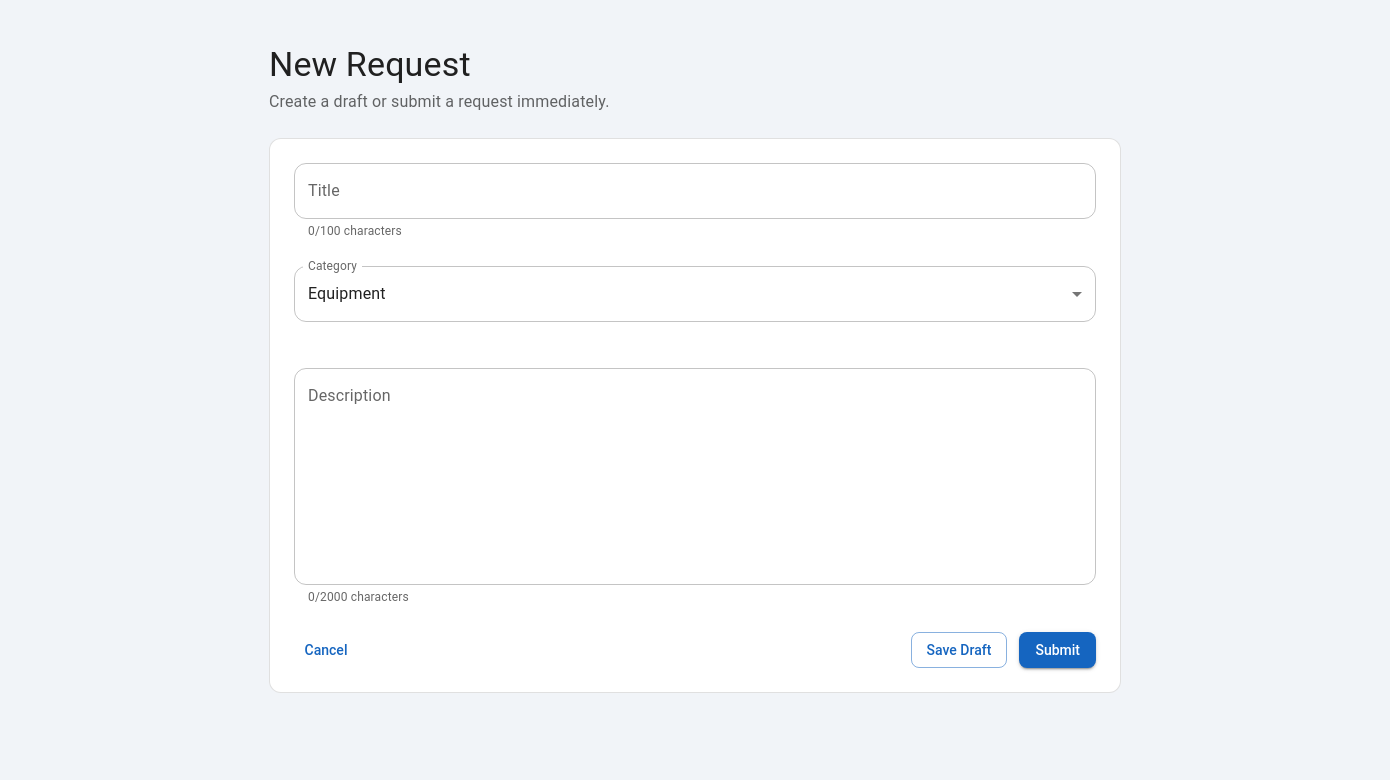
it: CreateRequestPage › submits request and redirects
Type "New laptop request" into the field labelled "Title" at (695, 191), box [294,163,1096,219]
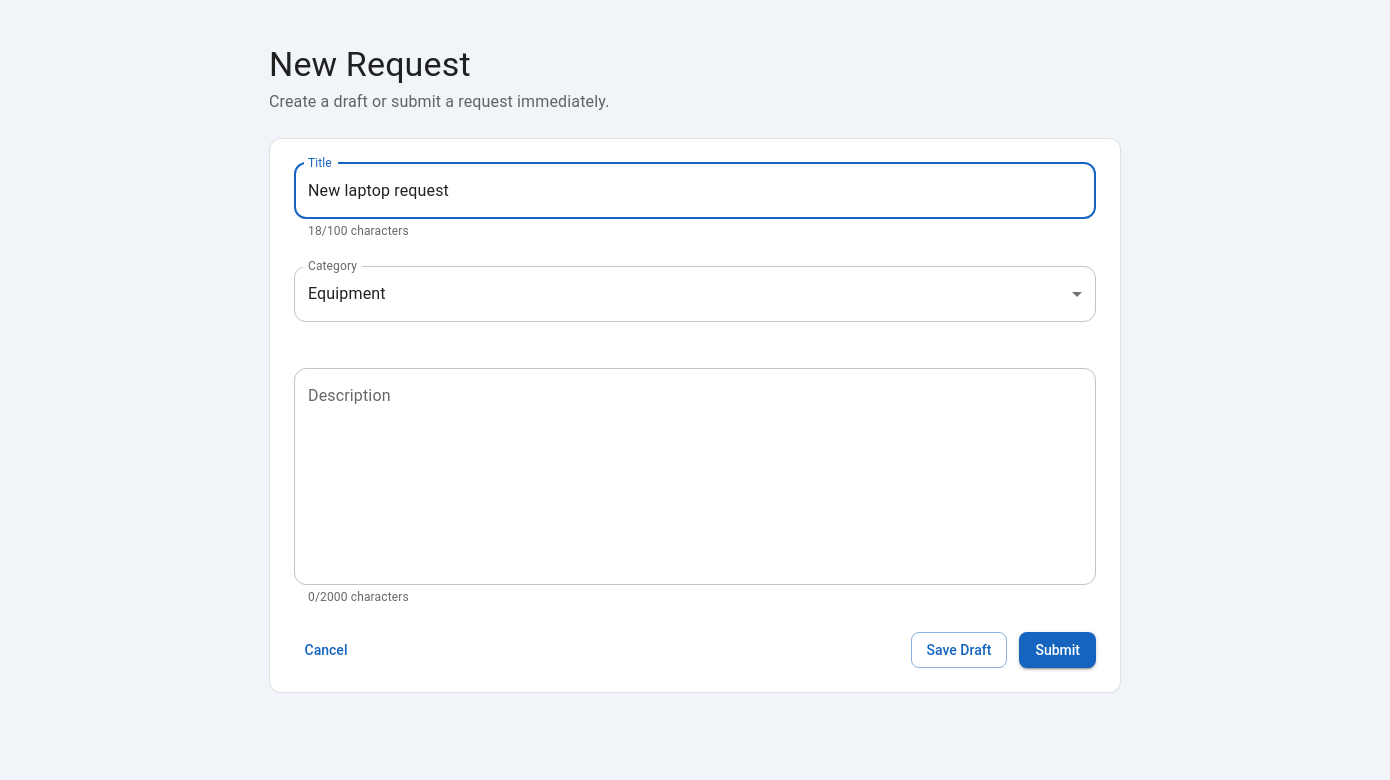
Type "Need a stronger laptop for local integration testing." into the text box labelled "Description" at (695, 476), box [308,384,1082,568]
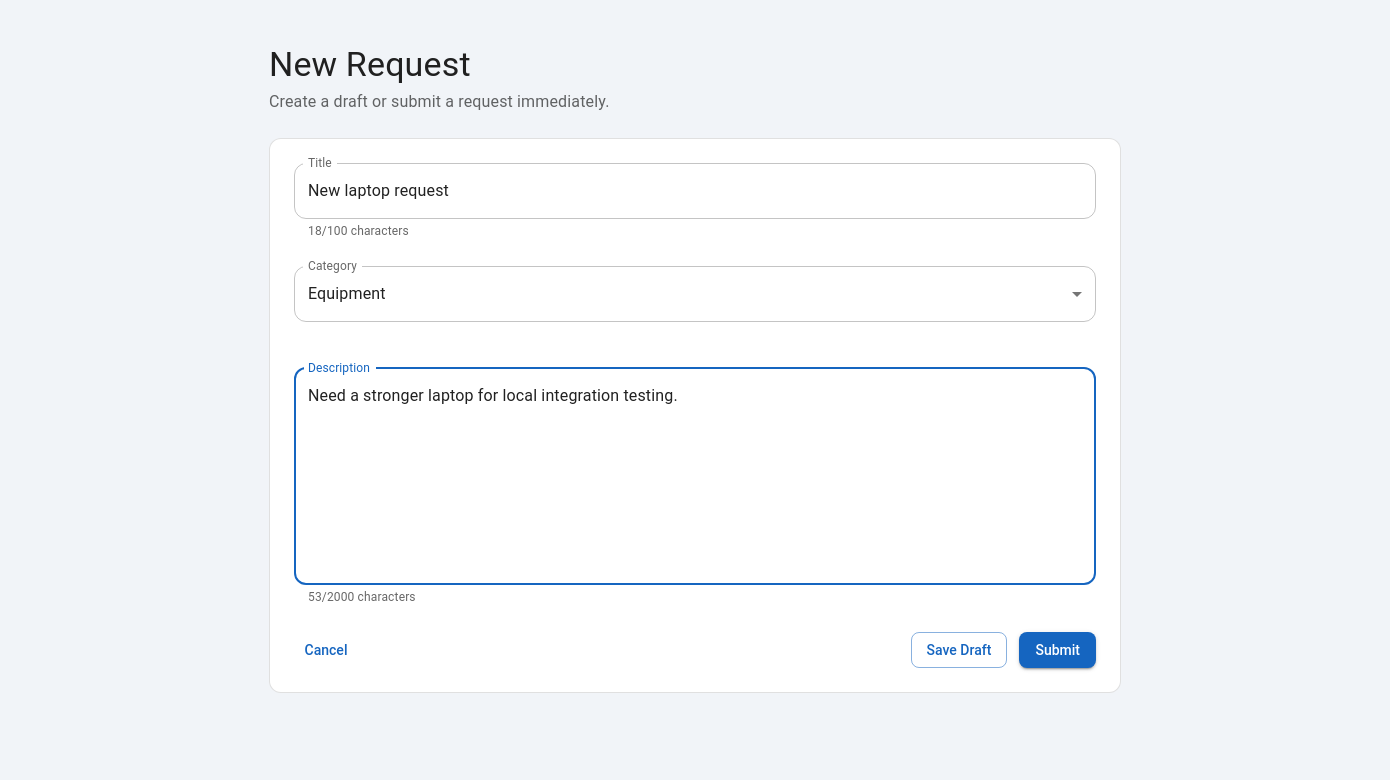
Click the button "Submit" at (1058, 650), box [1019,632,1096,668]
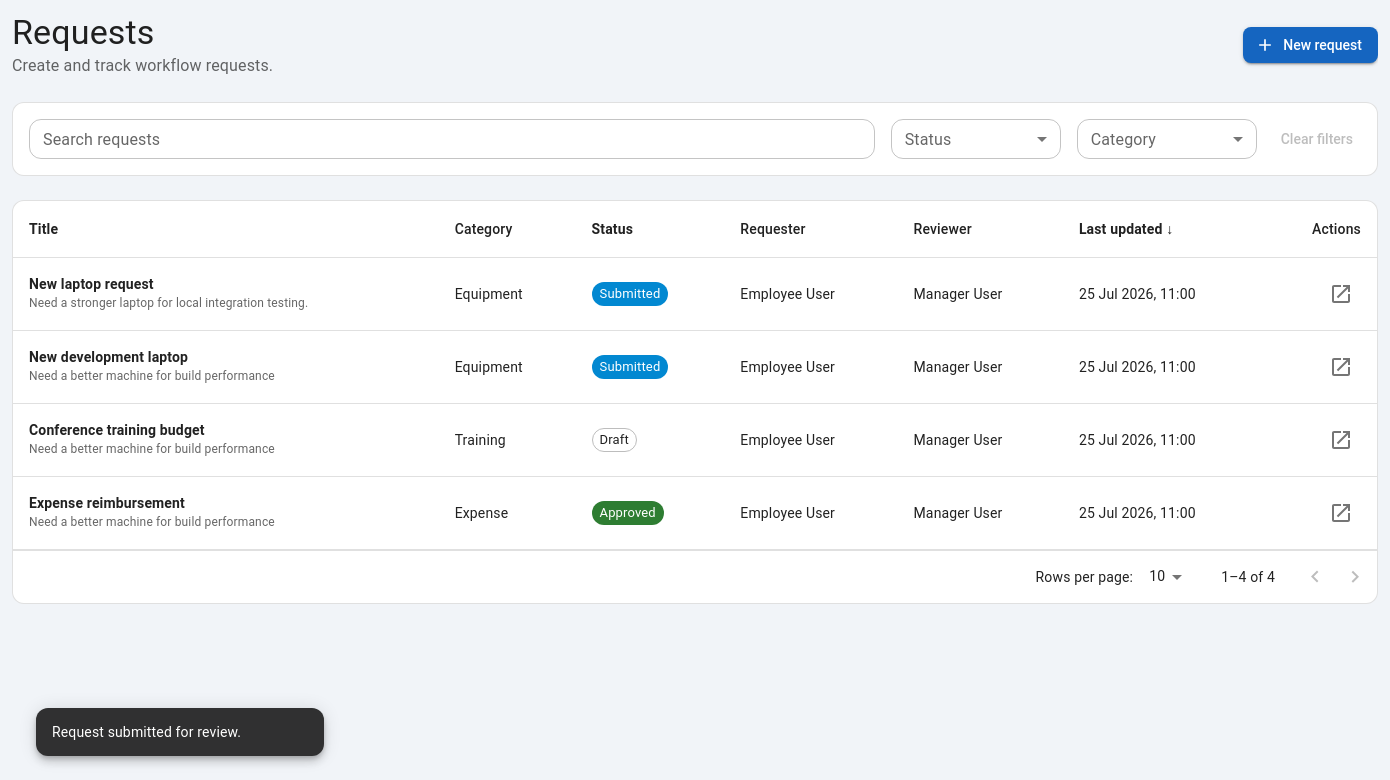
Now the heading "Requests" is shown, box [12,12,154,52]
